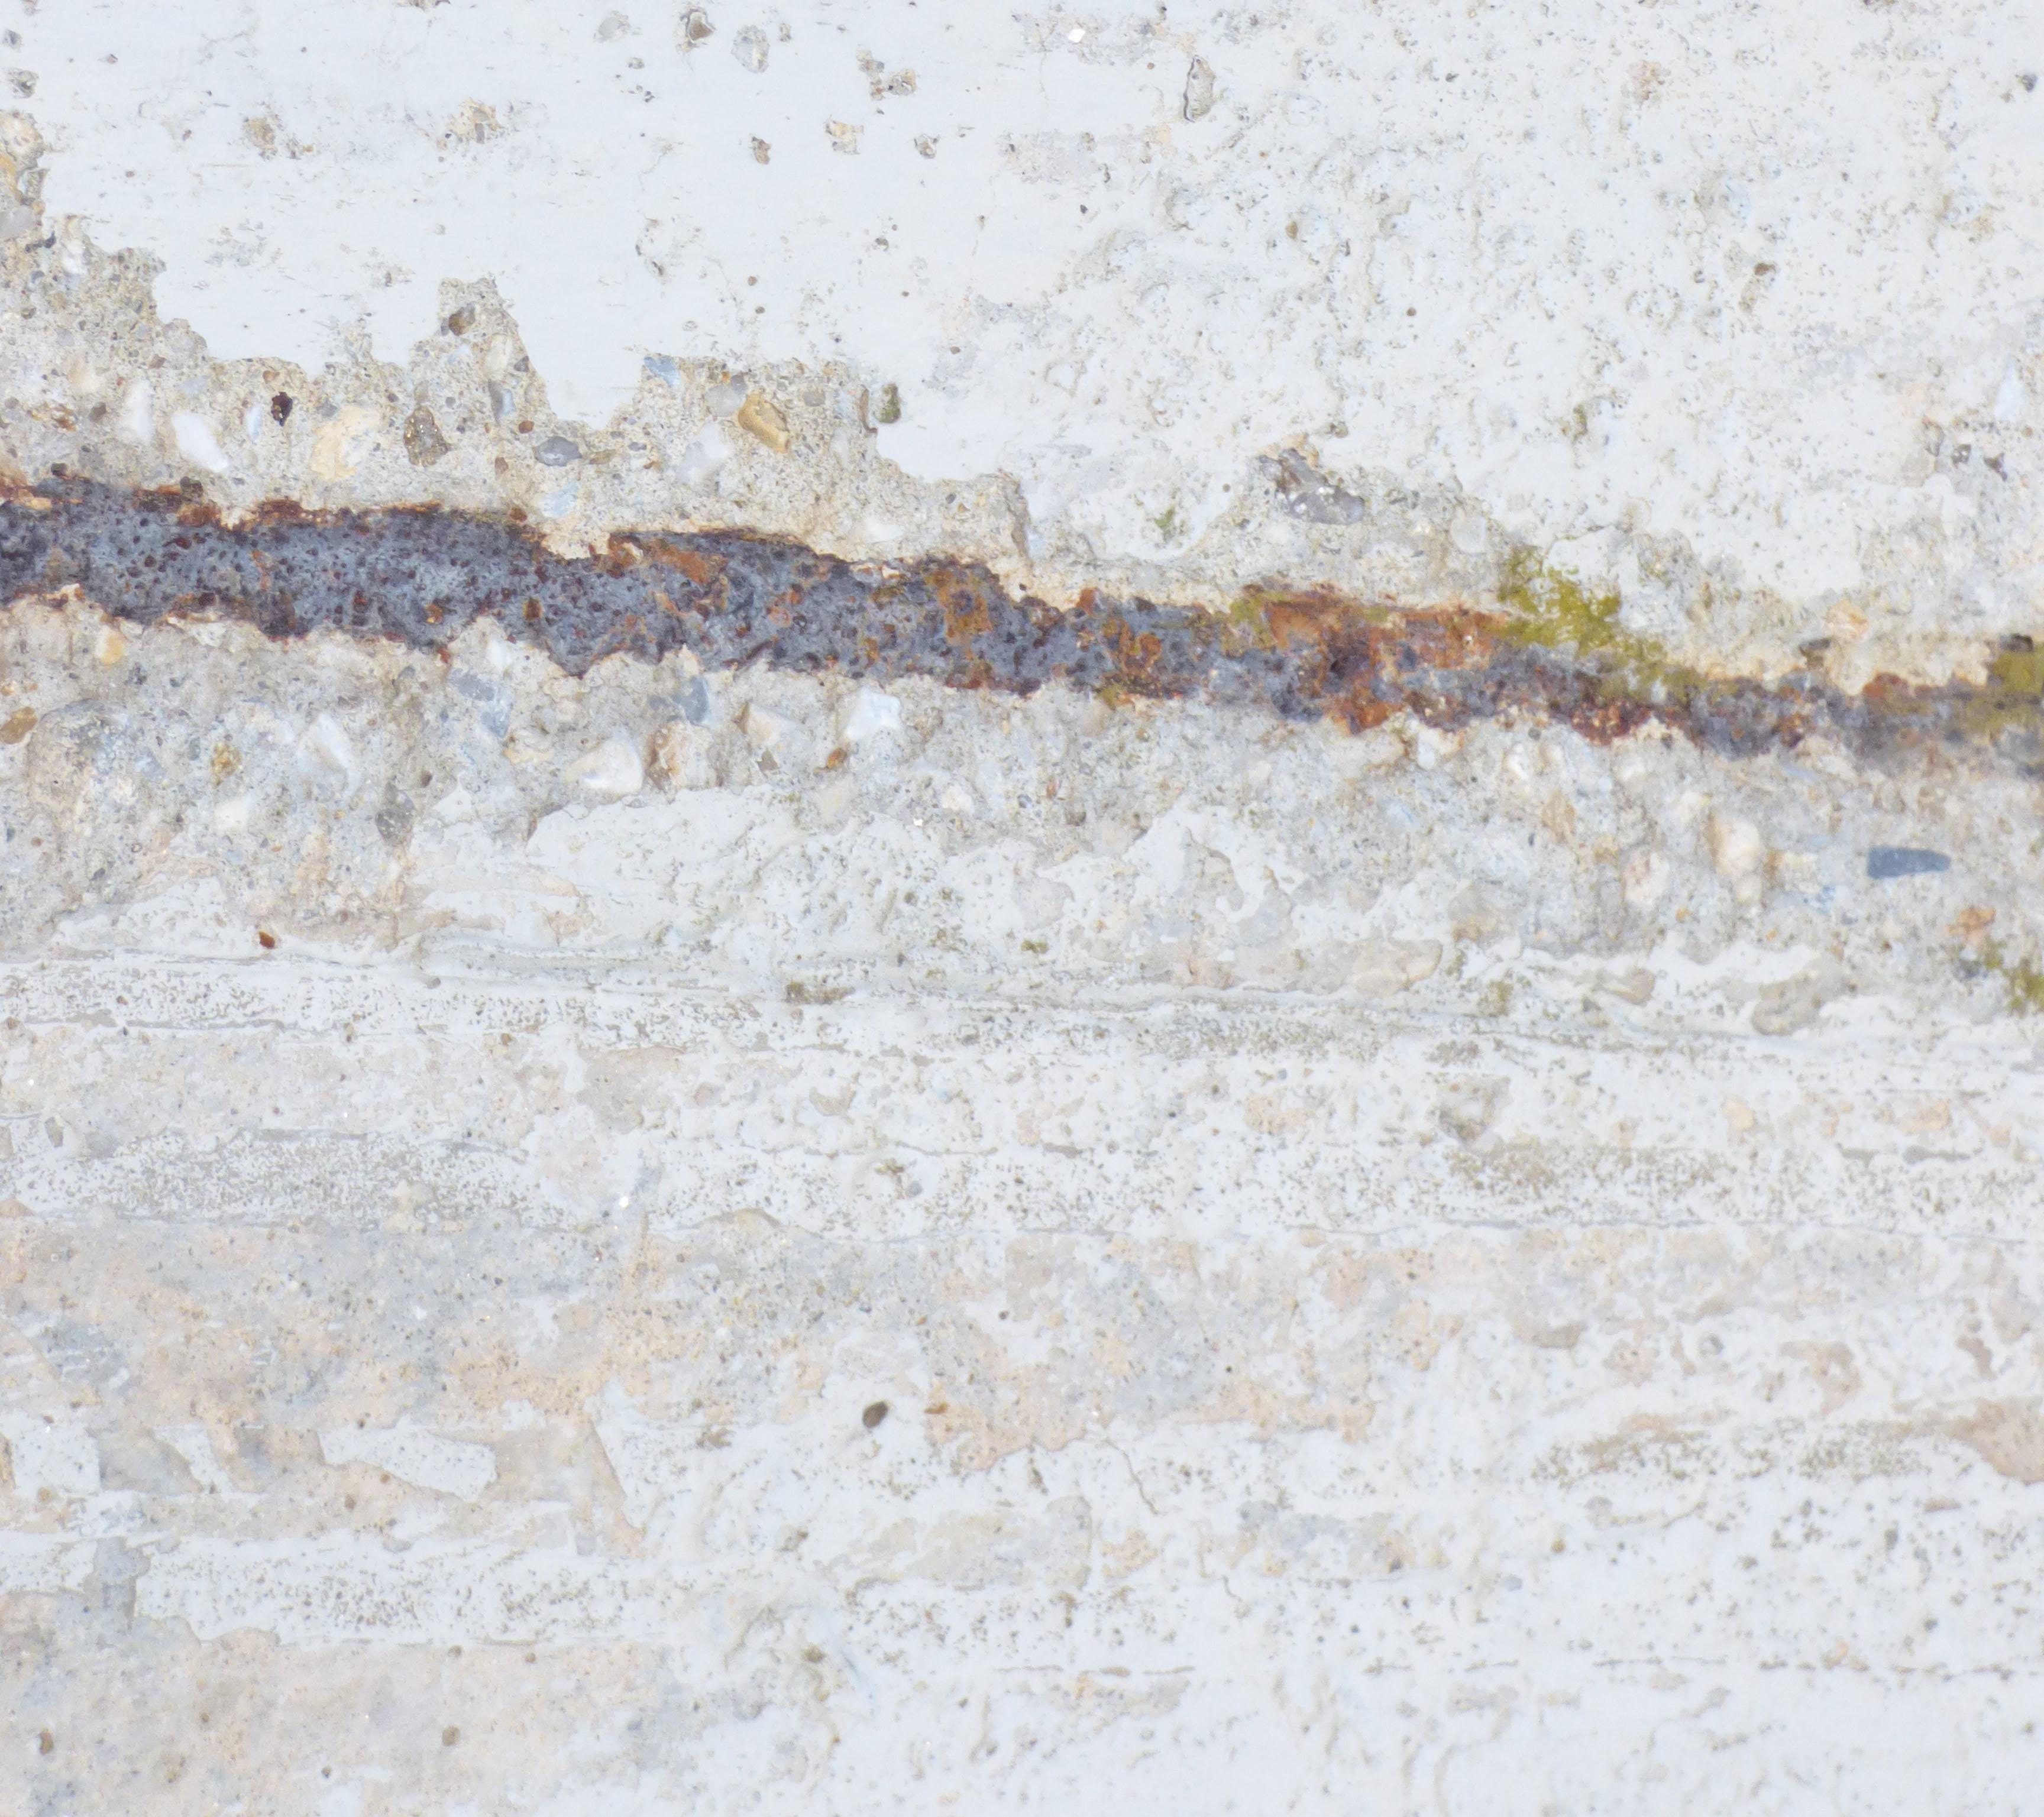Exposed reinforcement: (0, 468, 2044, 784)
Spalling: (0, 107, 2044, 954)
